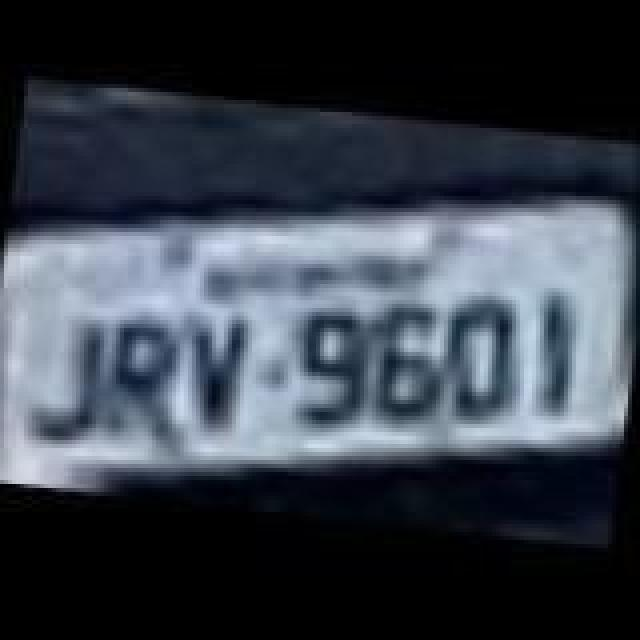1: (524, 294, 592, 422)
6: (364, 300, 456, 428)
9: (288, 310, 380, 442)
J: (28, 314, 120, 454)
O: (438, 298, 526, 426)
R: (100, 314, 192, 450)
V: (172, 310, 256, 438)
